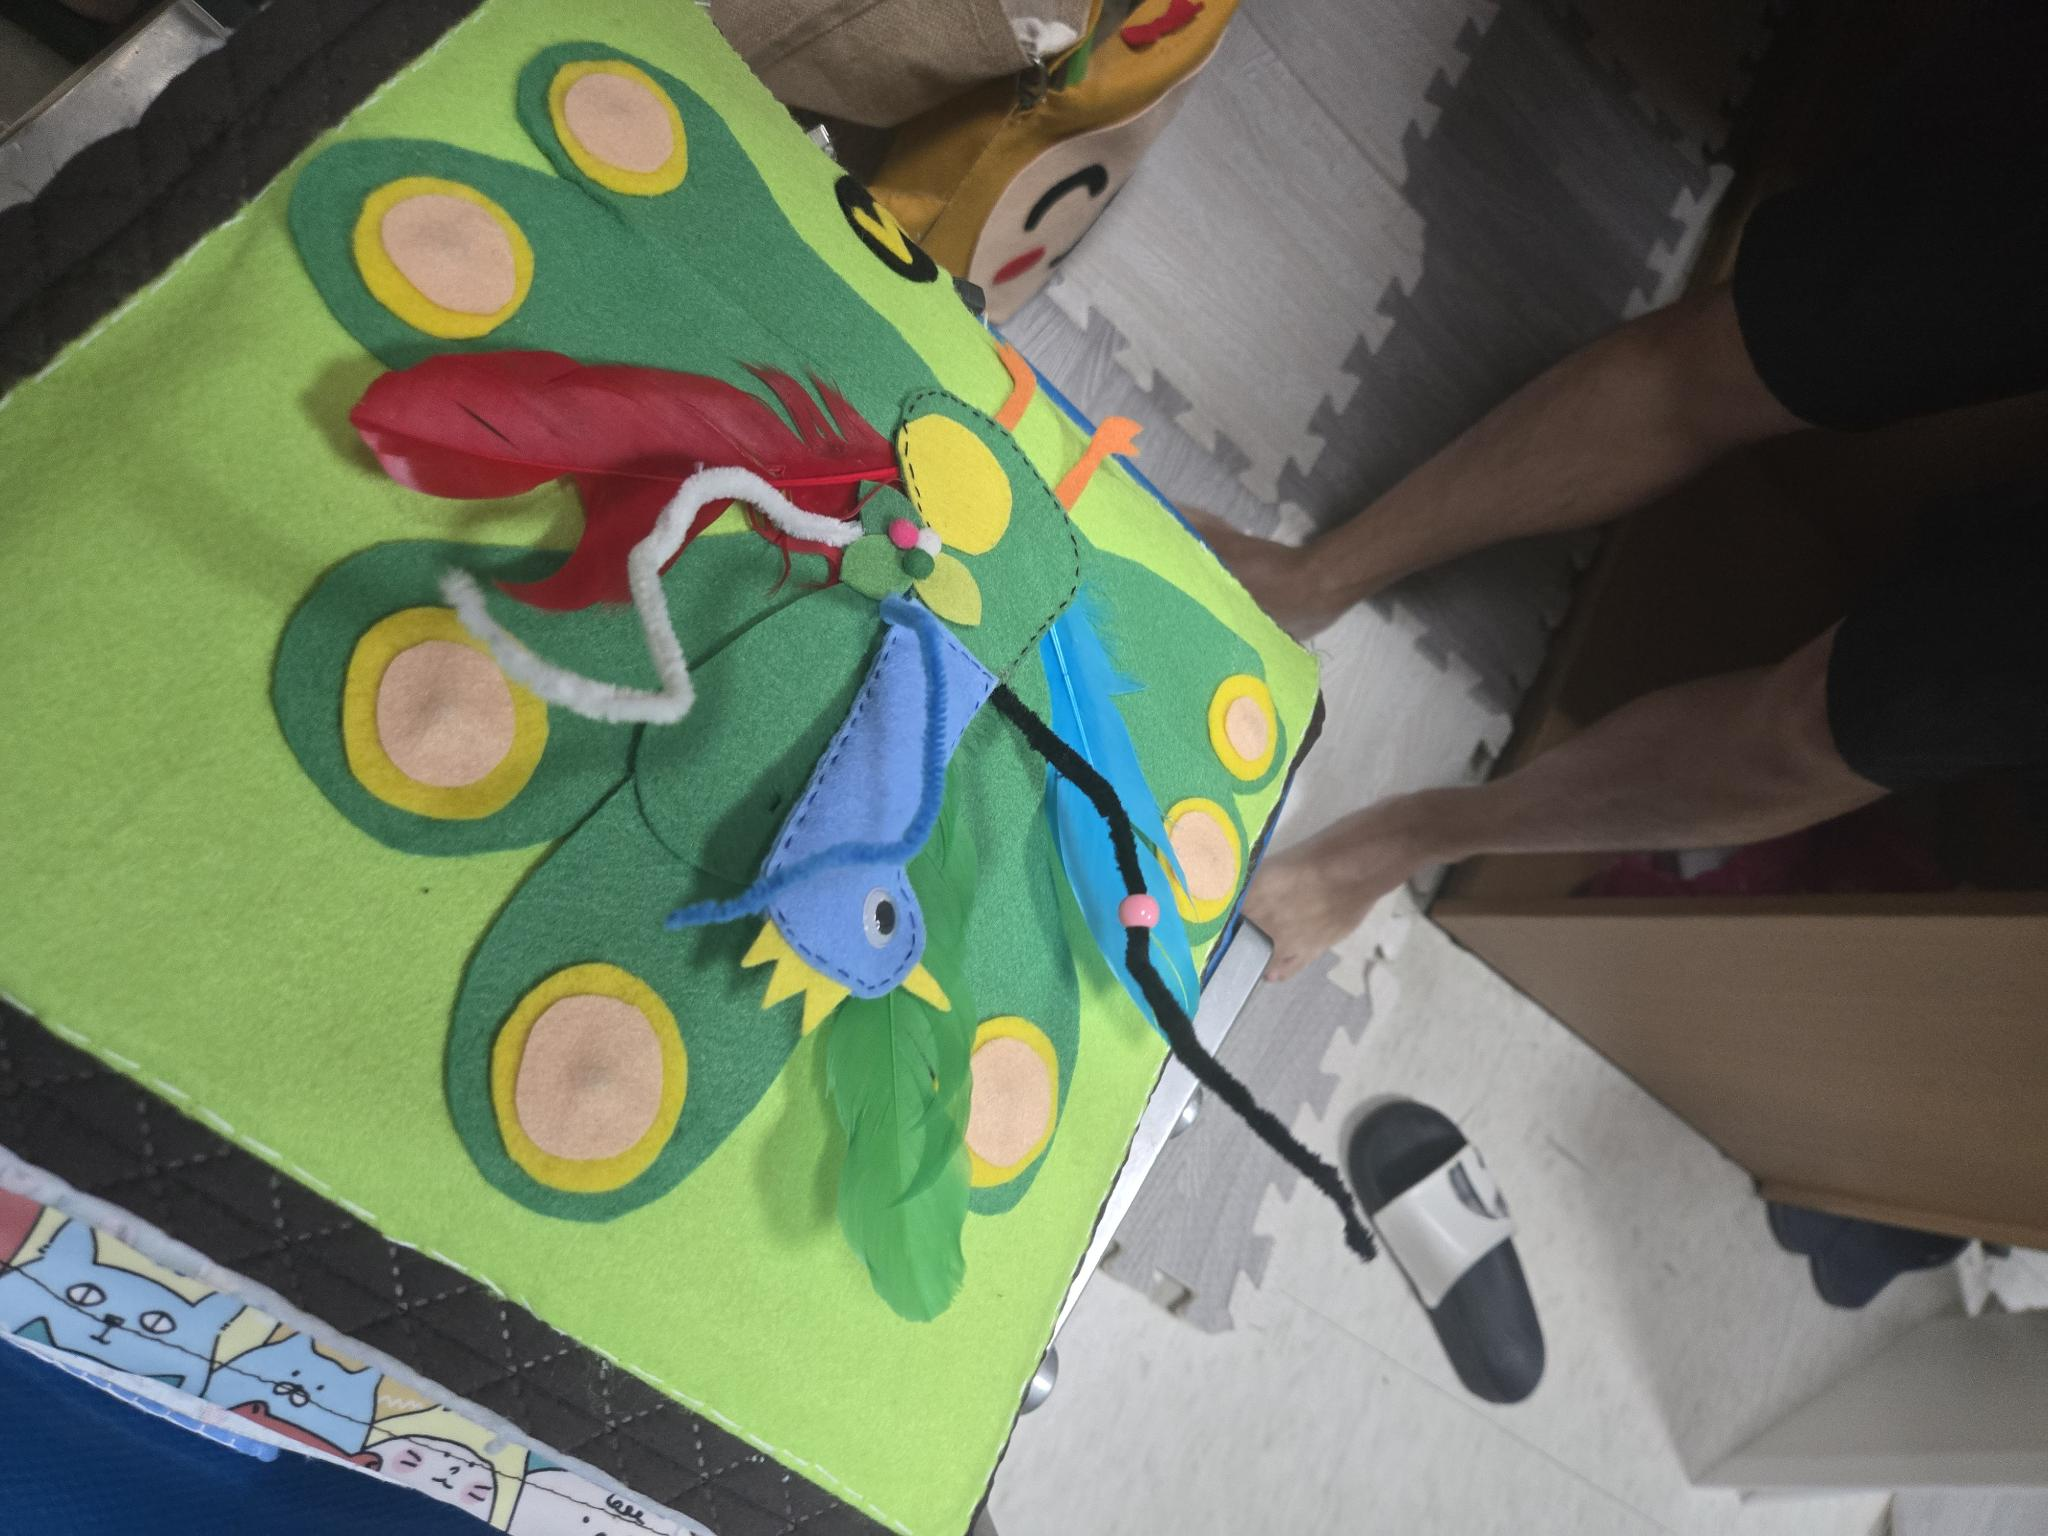bead: (1111, 876, 1164, 941)
